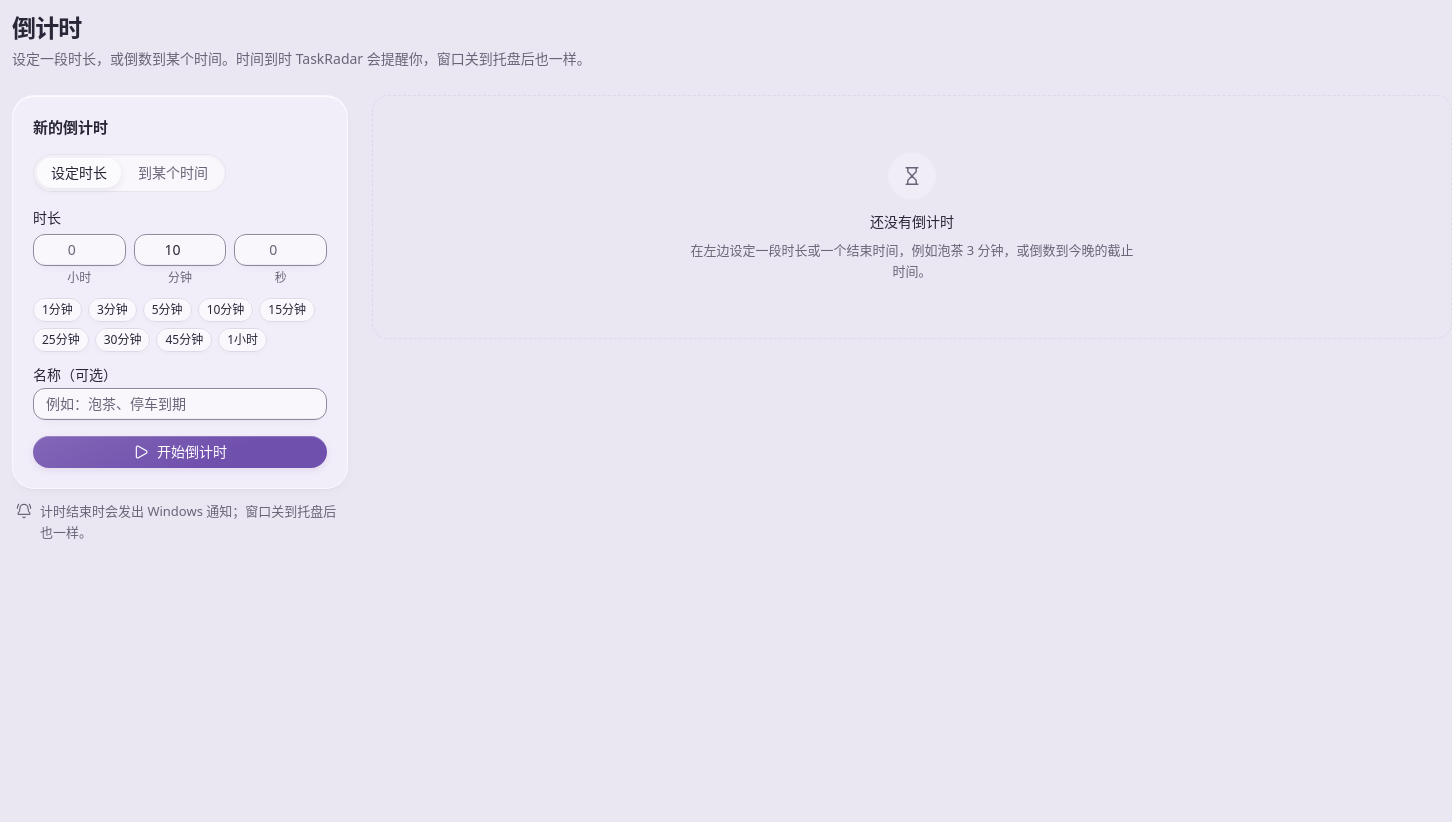
CountdownsPage › adds hours, minutes and seconds up, and refuses more than 7 days
Type "1" into the number field labelled "小时" at (79, 250), box [33,234,126,266]
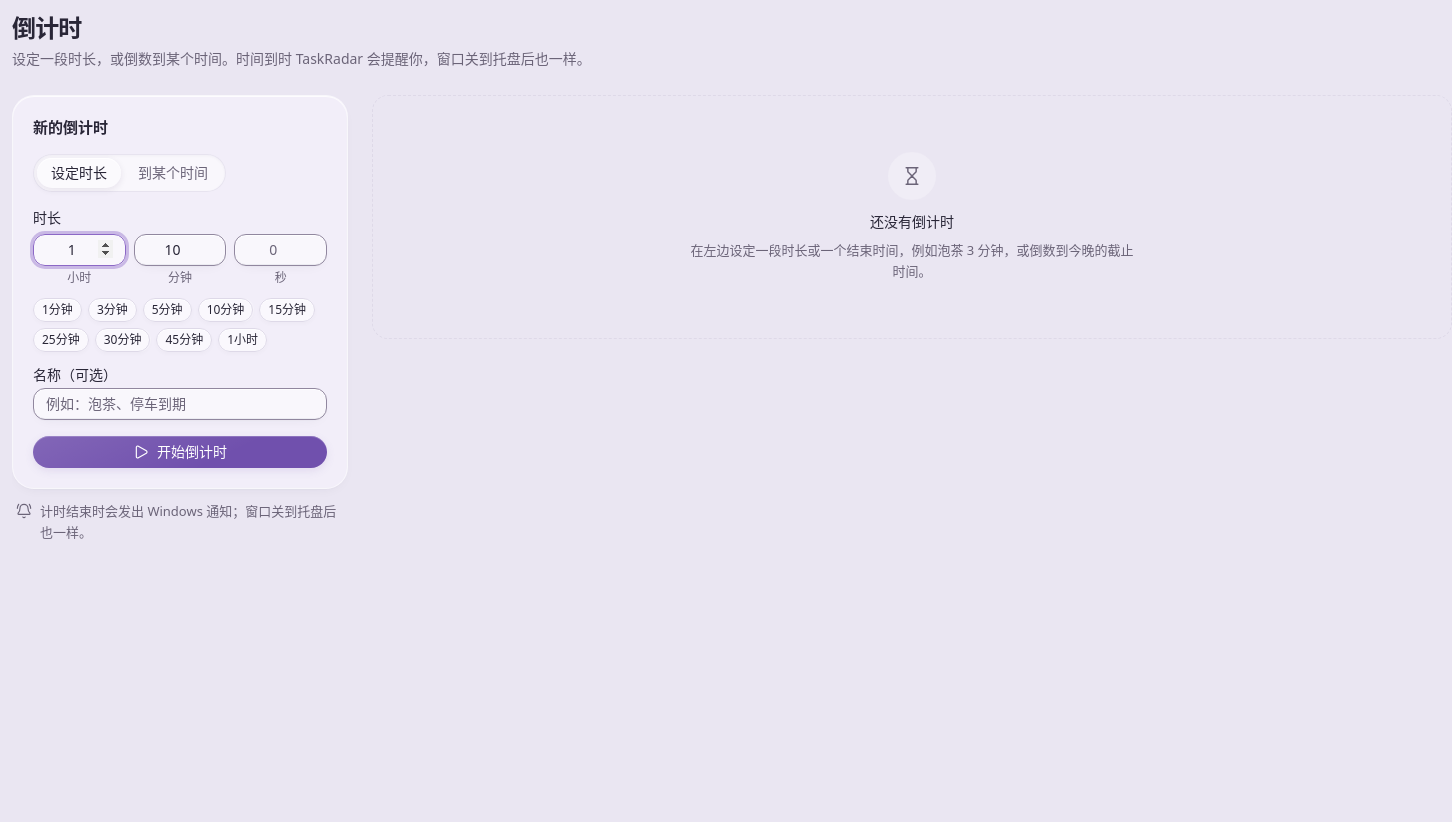
Replace the text in the number field labelled "分钟" with "2" at (180, 250), box [134,234,226,266]
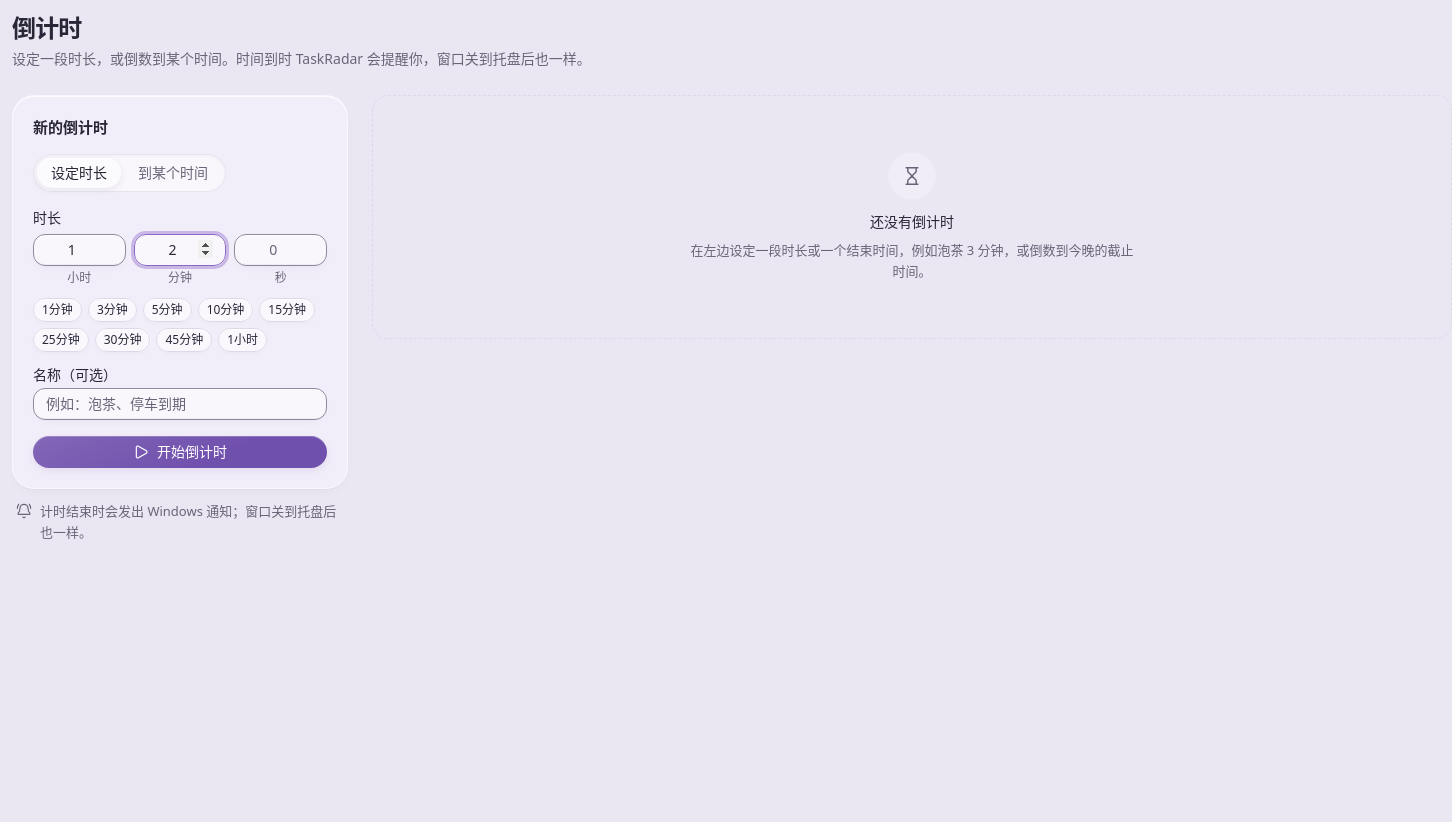
Type "3" into the number field labelled "秒" at (281, 250), box [234,234,327,266]
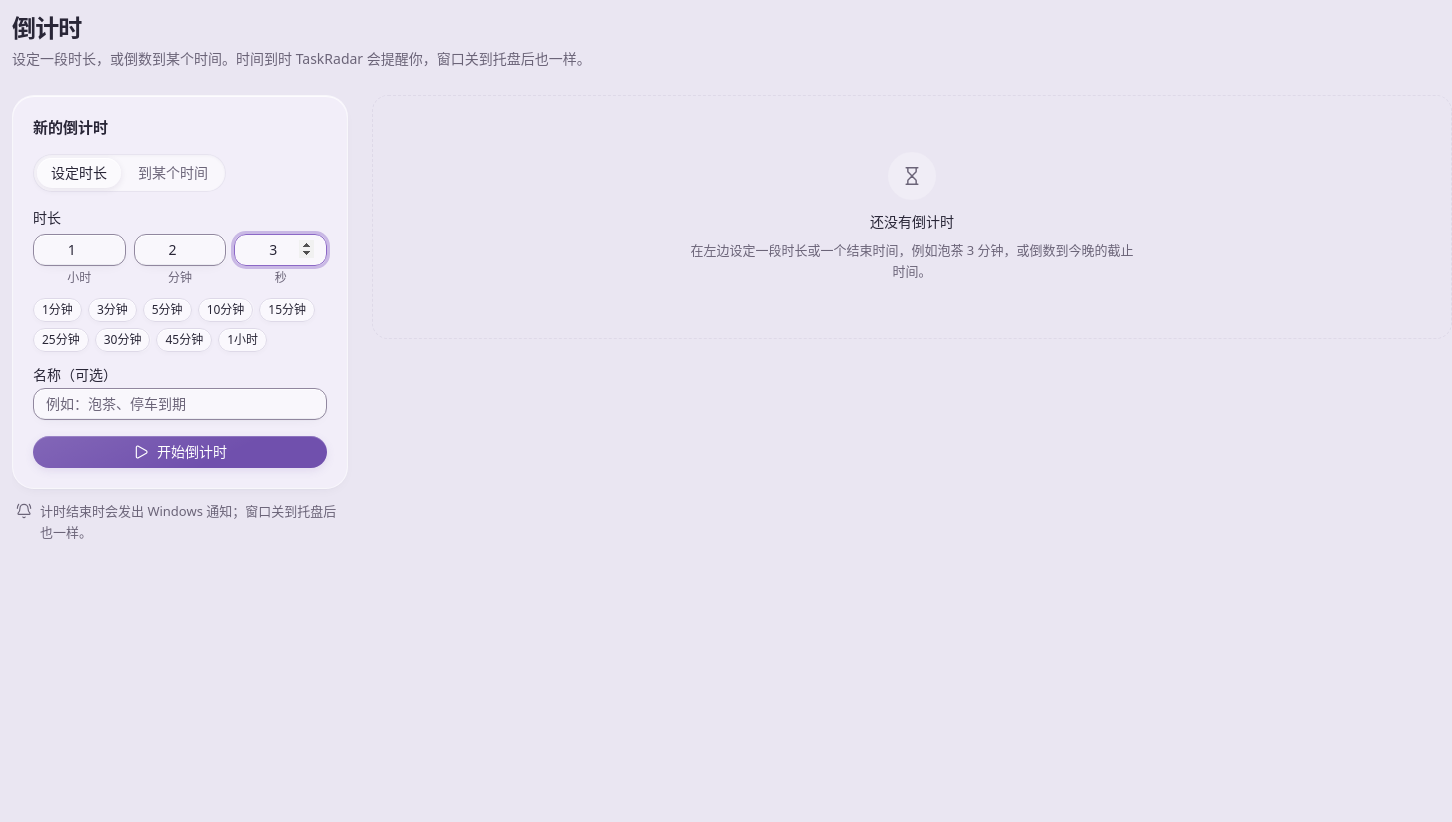
Click the button "开始倒计时" at (180, 452), box [33,436,327,468]
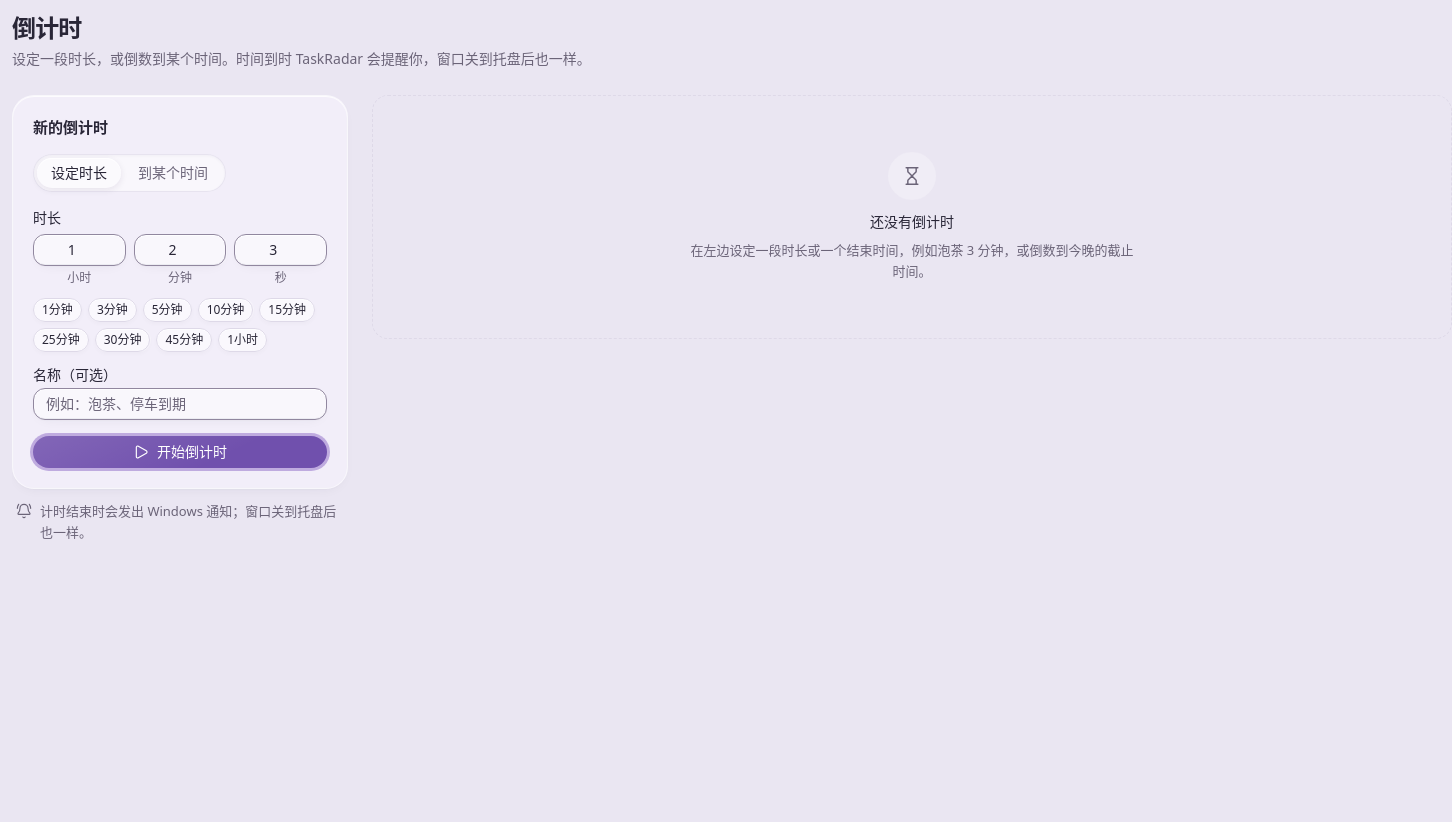
Replace the text in the number field labelled "小时" with "169" at (79, 250), box [33,234,126,266]
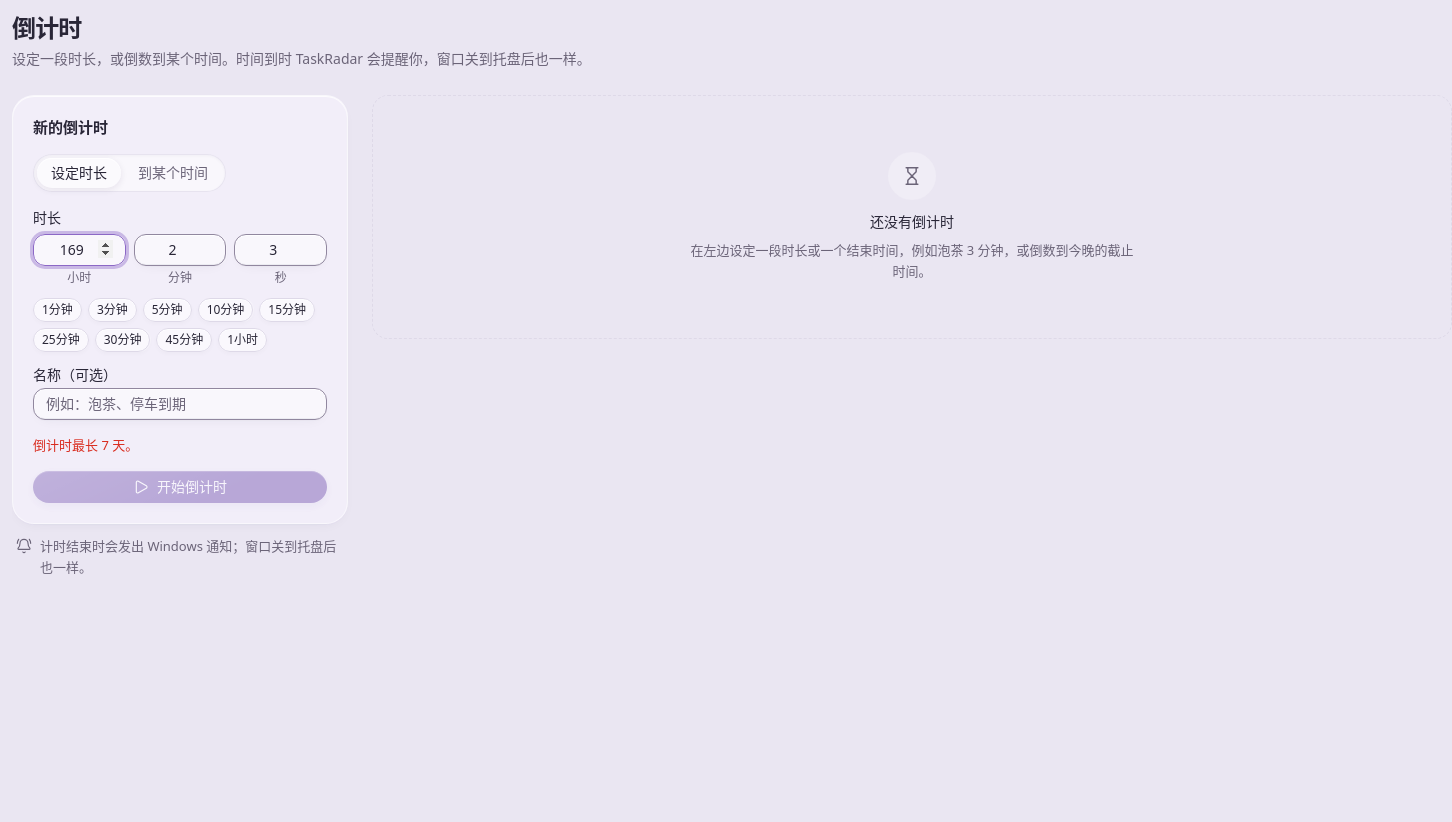
Expected: the message reads "倒计时最长 7 天。", [33,436,138,454]
Expected: the button "开始倒计时" is disabled, [33,471,327,503]
